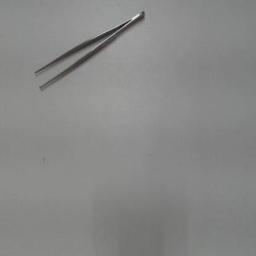Gillies Toothed Dissector: (30, 9, 150, 93)
